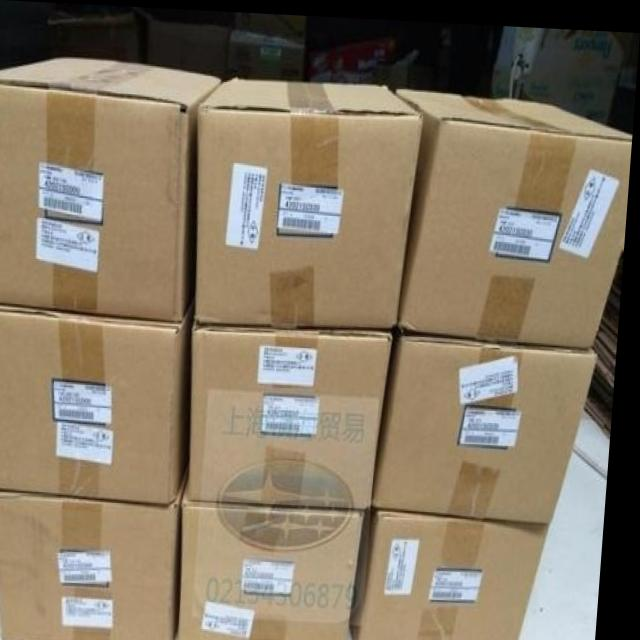box: (0, 53, 223, 319), (399, 86, 633, 339), (200, 75, 426, 325), (382, 322, 602, 523), (0, 301, 198, 502), (195, 322, 399, 504), (187, 471, 374, 640), (0, 486, 188, 640), (358, 500, 557, 640), (146, 12, 235, 78), (49, 3, 143, 59), (228, 11, 307, 75)
